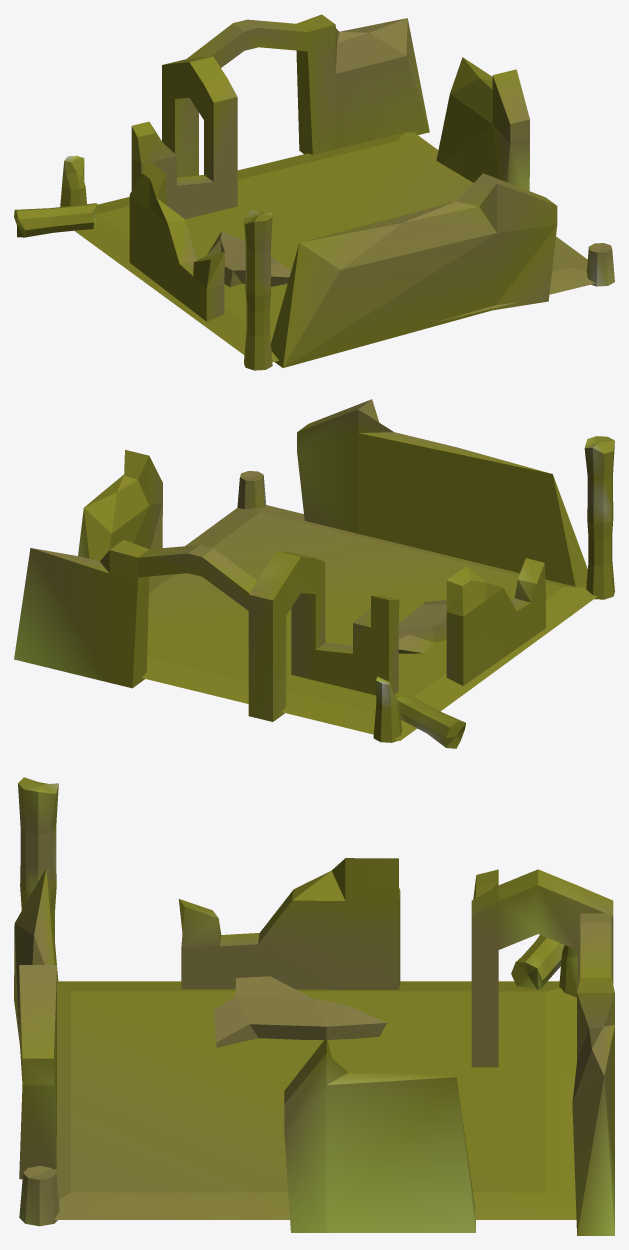
The model's file is TemploDestruido.fbx.
3 views of the same model, one above another, from view 1: azimuth 30°, elevation 25°; view 2: azimuth 150°, elevation 25°; view 3: azimuth 270°, elevation 25° (orthographic). The views are drawn at different scales.
Visible parts, largest first — view 1: LOD_0; view 2: LOD_0; view 3: LOD_0.
Boxes of the visible parts, left/top/right/bottom form: LOD_0: left=14, top=14, right=614, bottom=370; LOD_0: left=14, top=399, right=614, bottom=748; LOD_0: left=14, top=777, right=614, bottom=1235.
Size of what is drawn, in the model's own units: 1775 by 604 by 1595.
